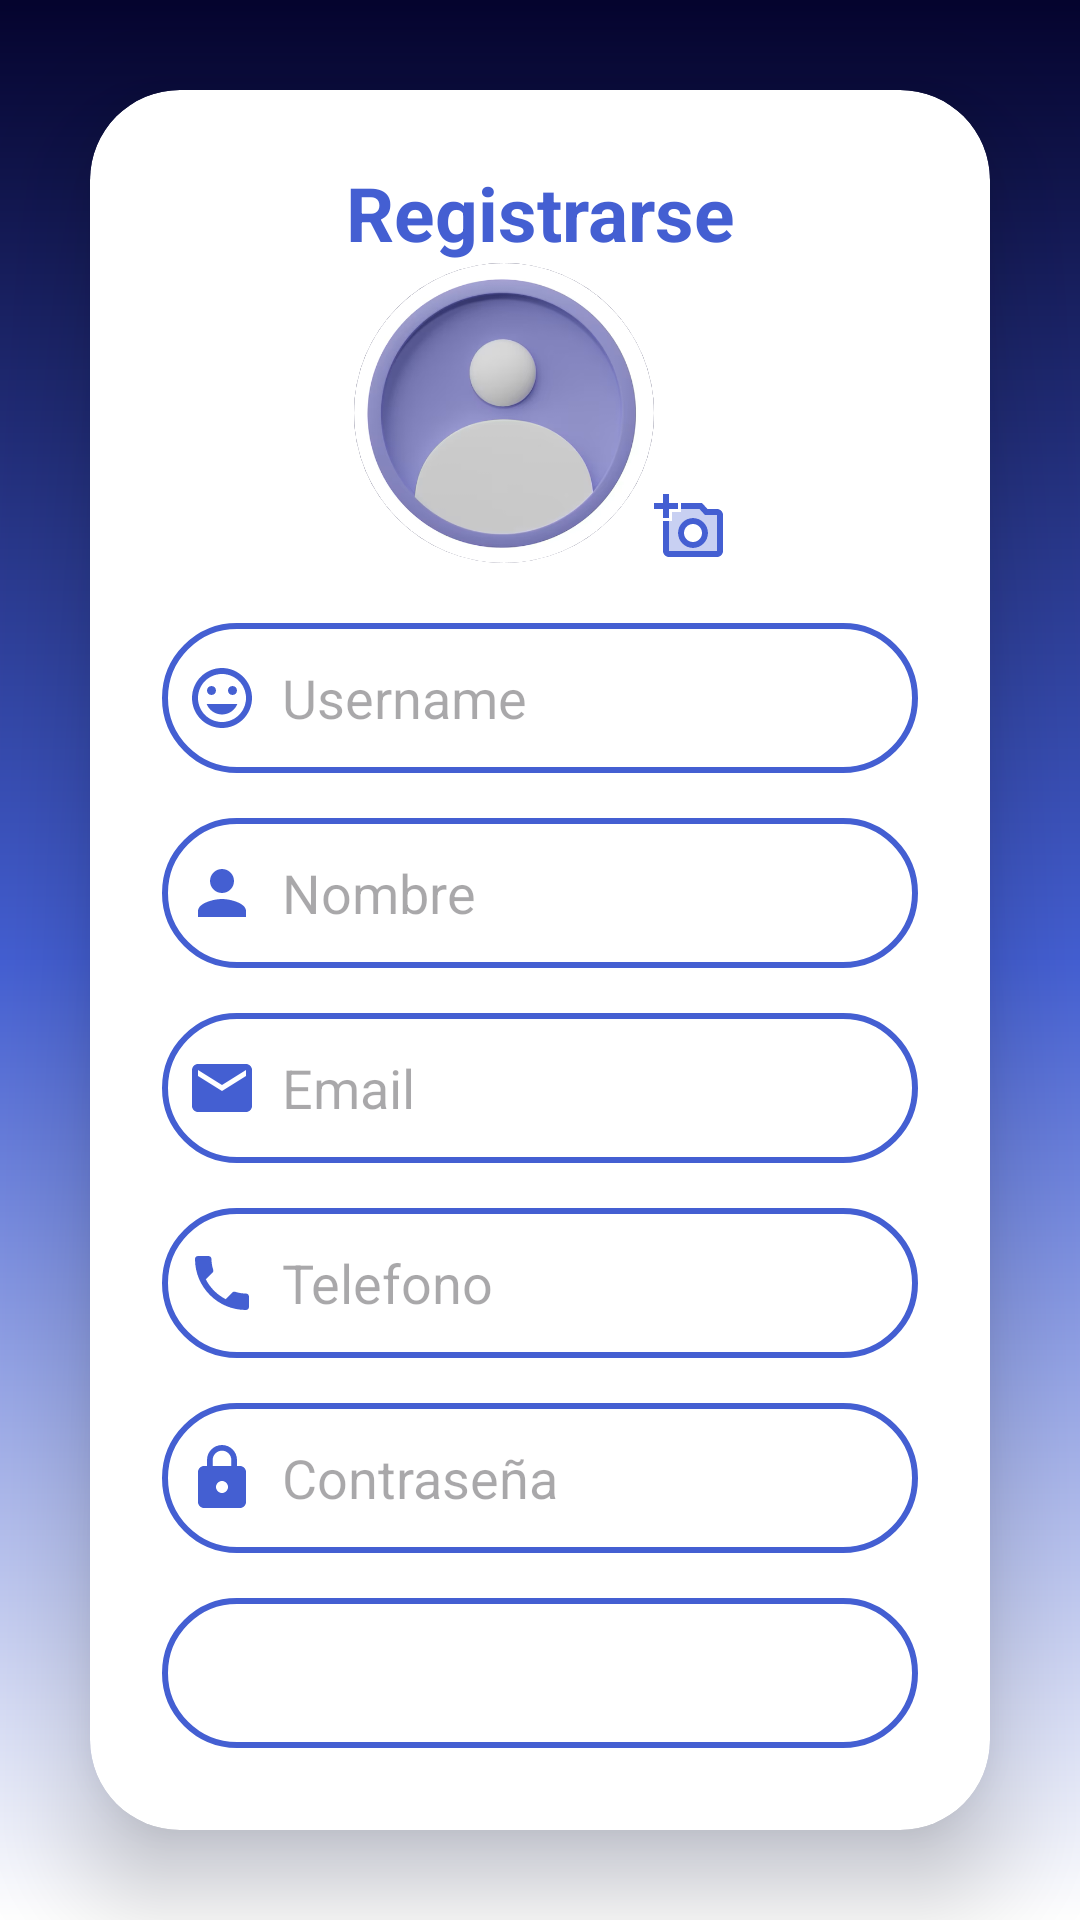

Icons on this 1080×1920 Android screen, each with the point to tap as [x,y]:
add photo: [688,525]
perfil: [504,413]
